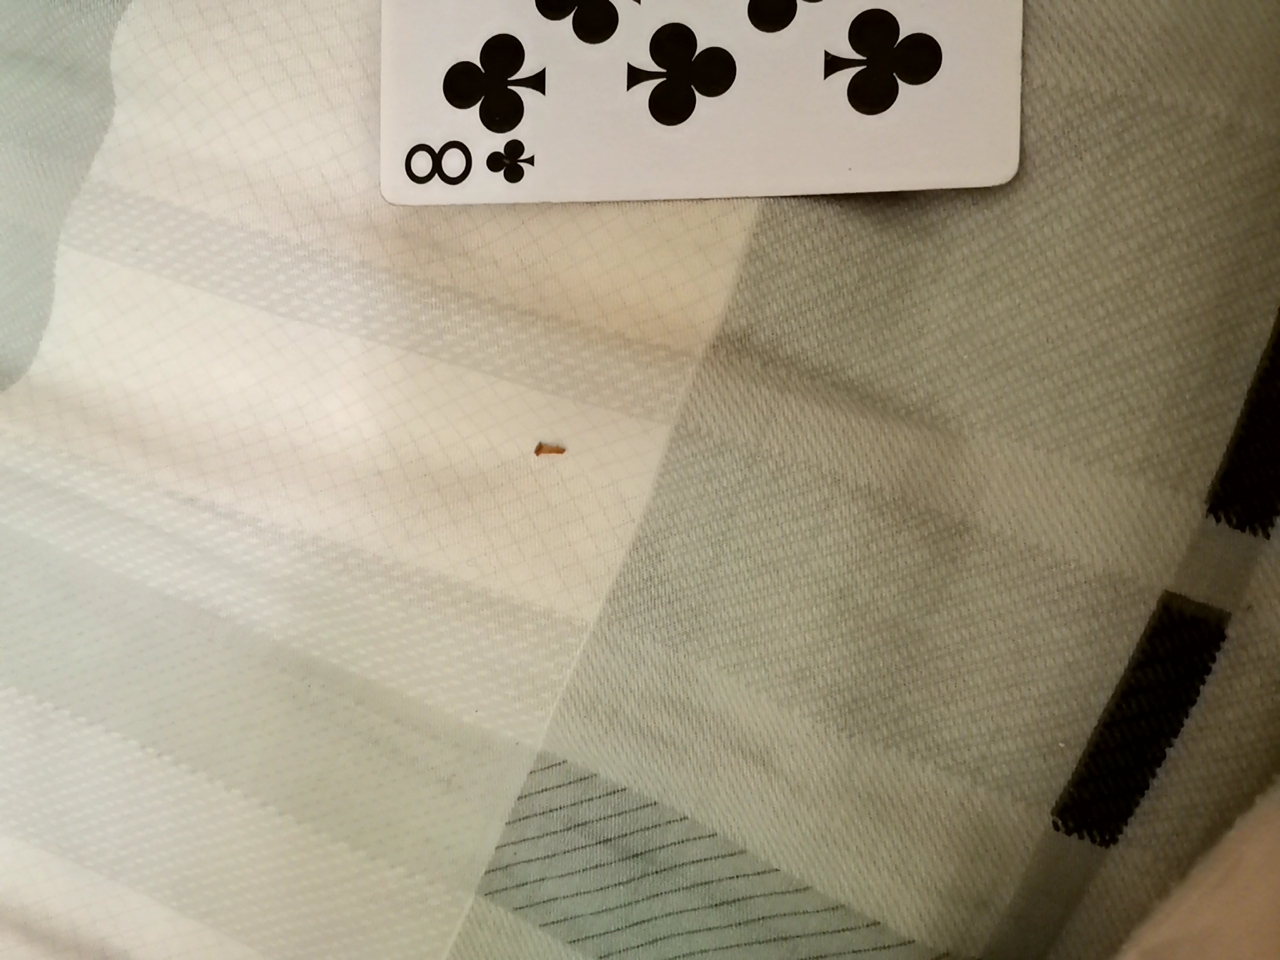mh 8: (311, 0, 1020, 208)
